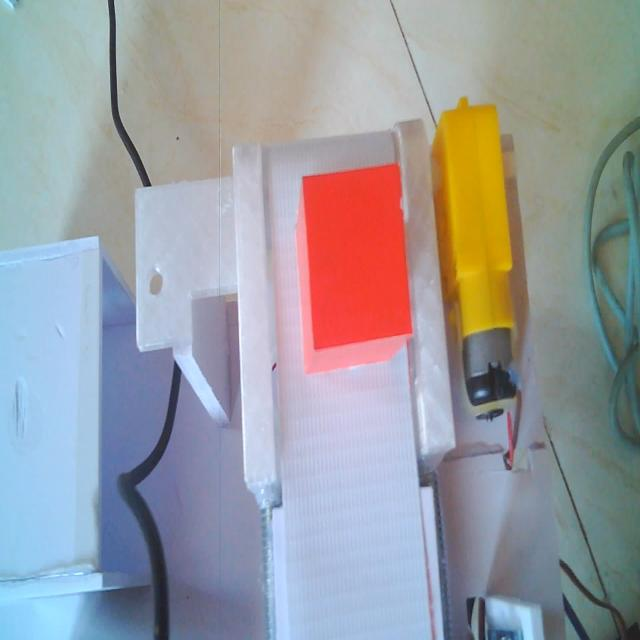red: (292, 166, 414, 379)
